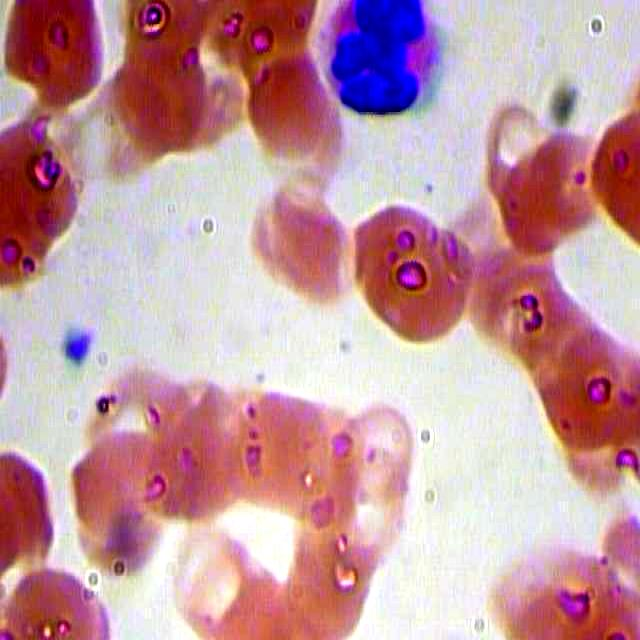Platelets: (47, 316, 99, 375)
RBC: (340, 191, 473, 345), (245, 172, 358, 311), (138, 392, 251, 531), (61, 417, 174, 556), (241, 39, 354, 177), (485, 530, 623, 640), (214, 378, 328, 511), (532, 319, 640, 449), (106, 29, 213, 160), (269, 516, 377, 640), (7, 2, 112, 122), (157, 521, 262, 640), (1, 111, 85, 252), (479, 145, 567, 267), (463, 229, 551, 351), (521, 120, 609, 241), (499, 252, 587, 373), (519, 279, 607, 400), (1, 556, 109, 640), (338, 394, 415, 510), (334, 466, 411, 582), (218, 556, 315, 640)
WBC: (312, 1, 453, 123)
